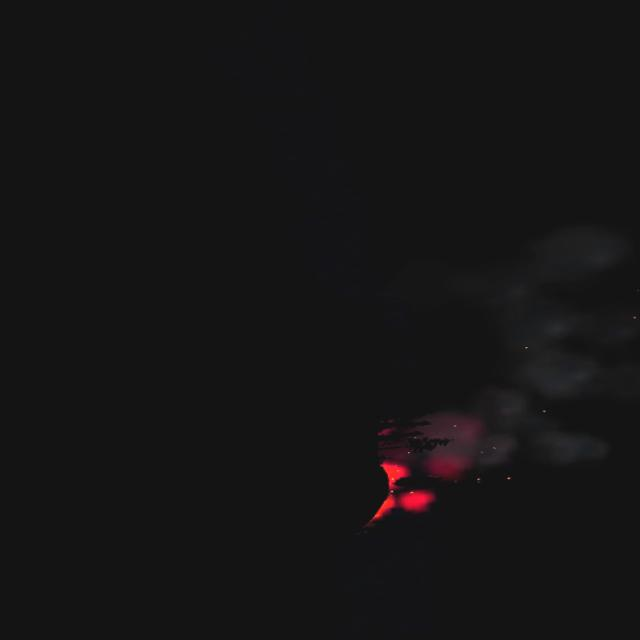fire: (355, 456, 435, 524)
smoke: (373, 220, 640, 501)
